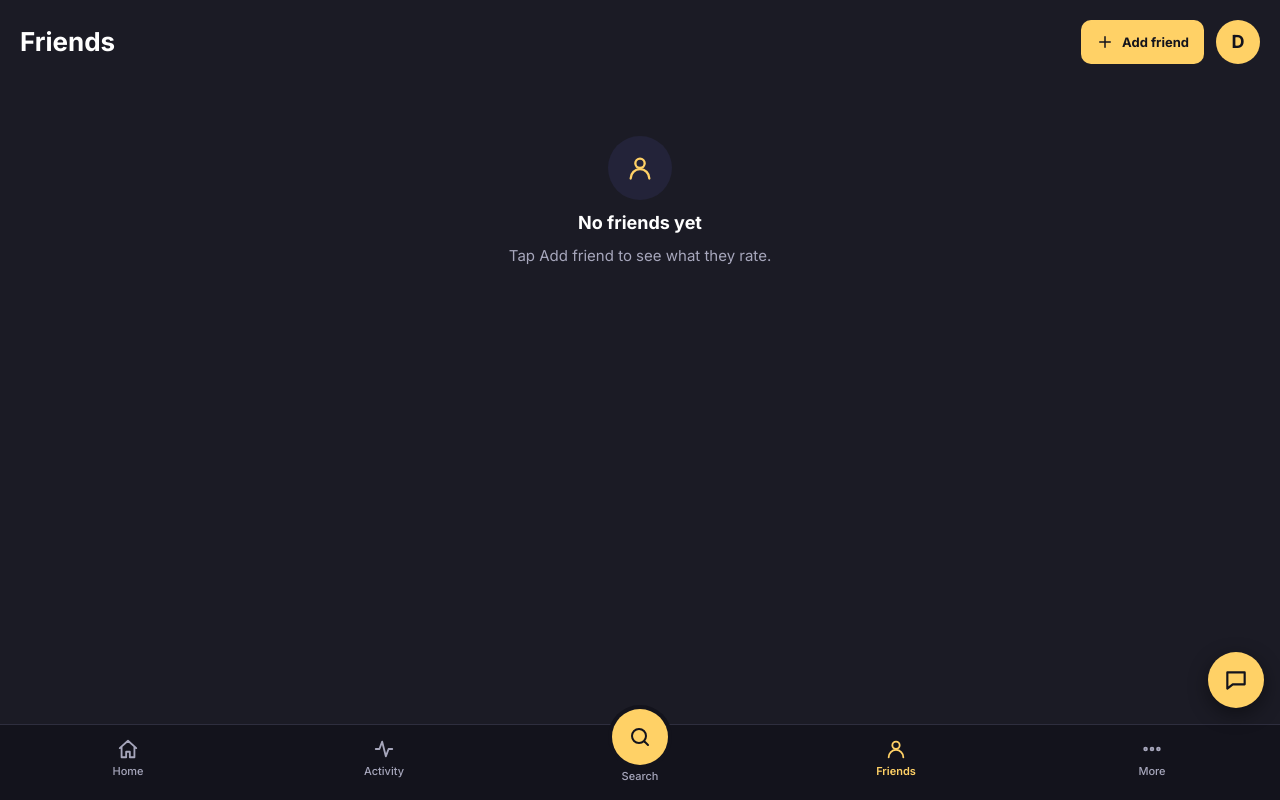
Test: Add friend sheet › lists everyone before you type, each with Add
Step 1. Click the button "Add friend" → (1142, 42), box [1081,20,1204,64]
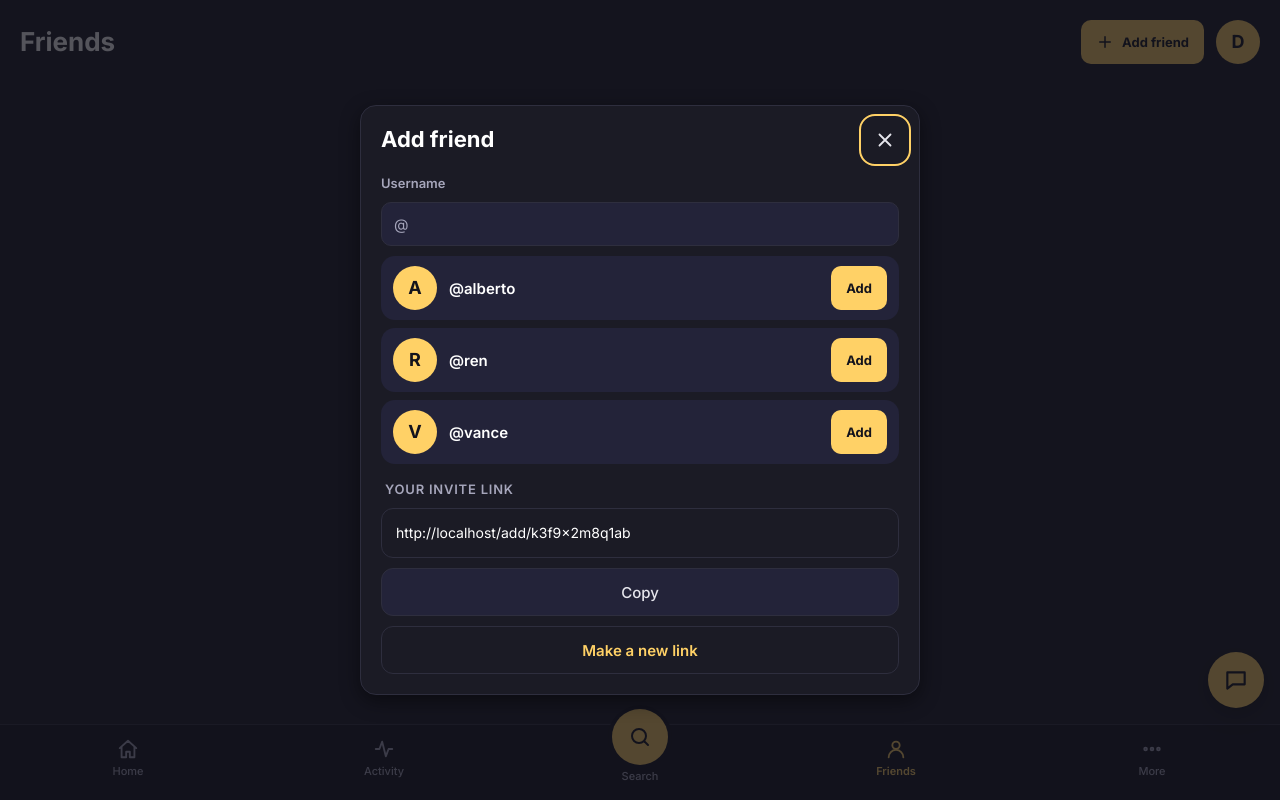
Expected: the number of list items is 3, [381,256,899,320]; [381,328,899,392]; [381,400,899,464]
Expected: the button with aria-label "Add @vance" is shown, [831,410,887,454]
